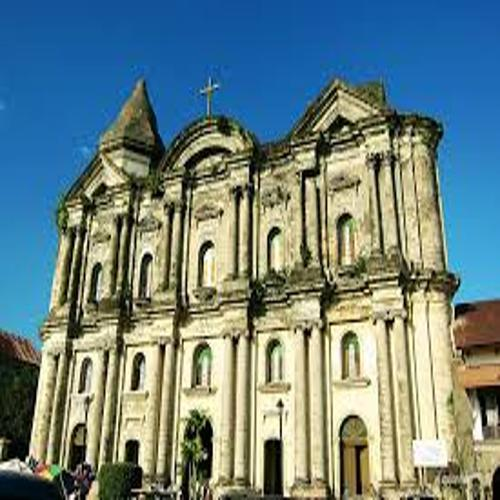Taal Basilica Church: (24, 58, 470, 492)
